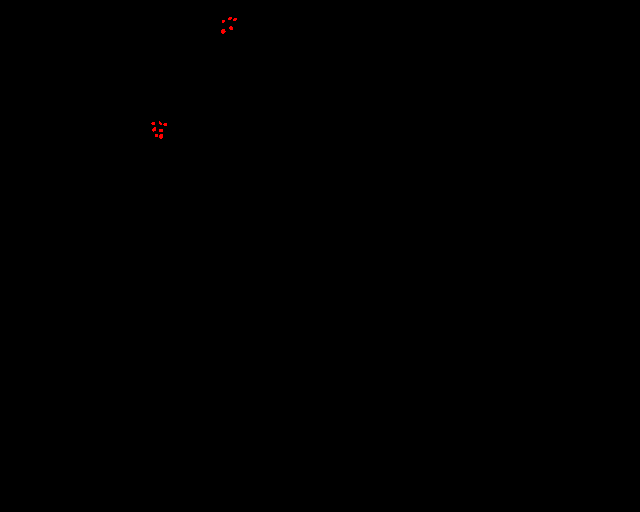Target: (221, 29, 226, 34), (152, 127, 156, 132), (159, 134, 163, 139), (229, 26, 233, 30), (228, 17, 232, 20), (233, 18, 237, 21), (159, 121, 162, 125), (151, 122, 155, 125), (163, 123, 167, 126), (159, 129, 163, 132), (222, 20, 225, 23), (155, 134, 158, 137)
